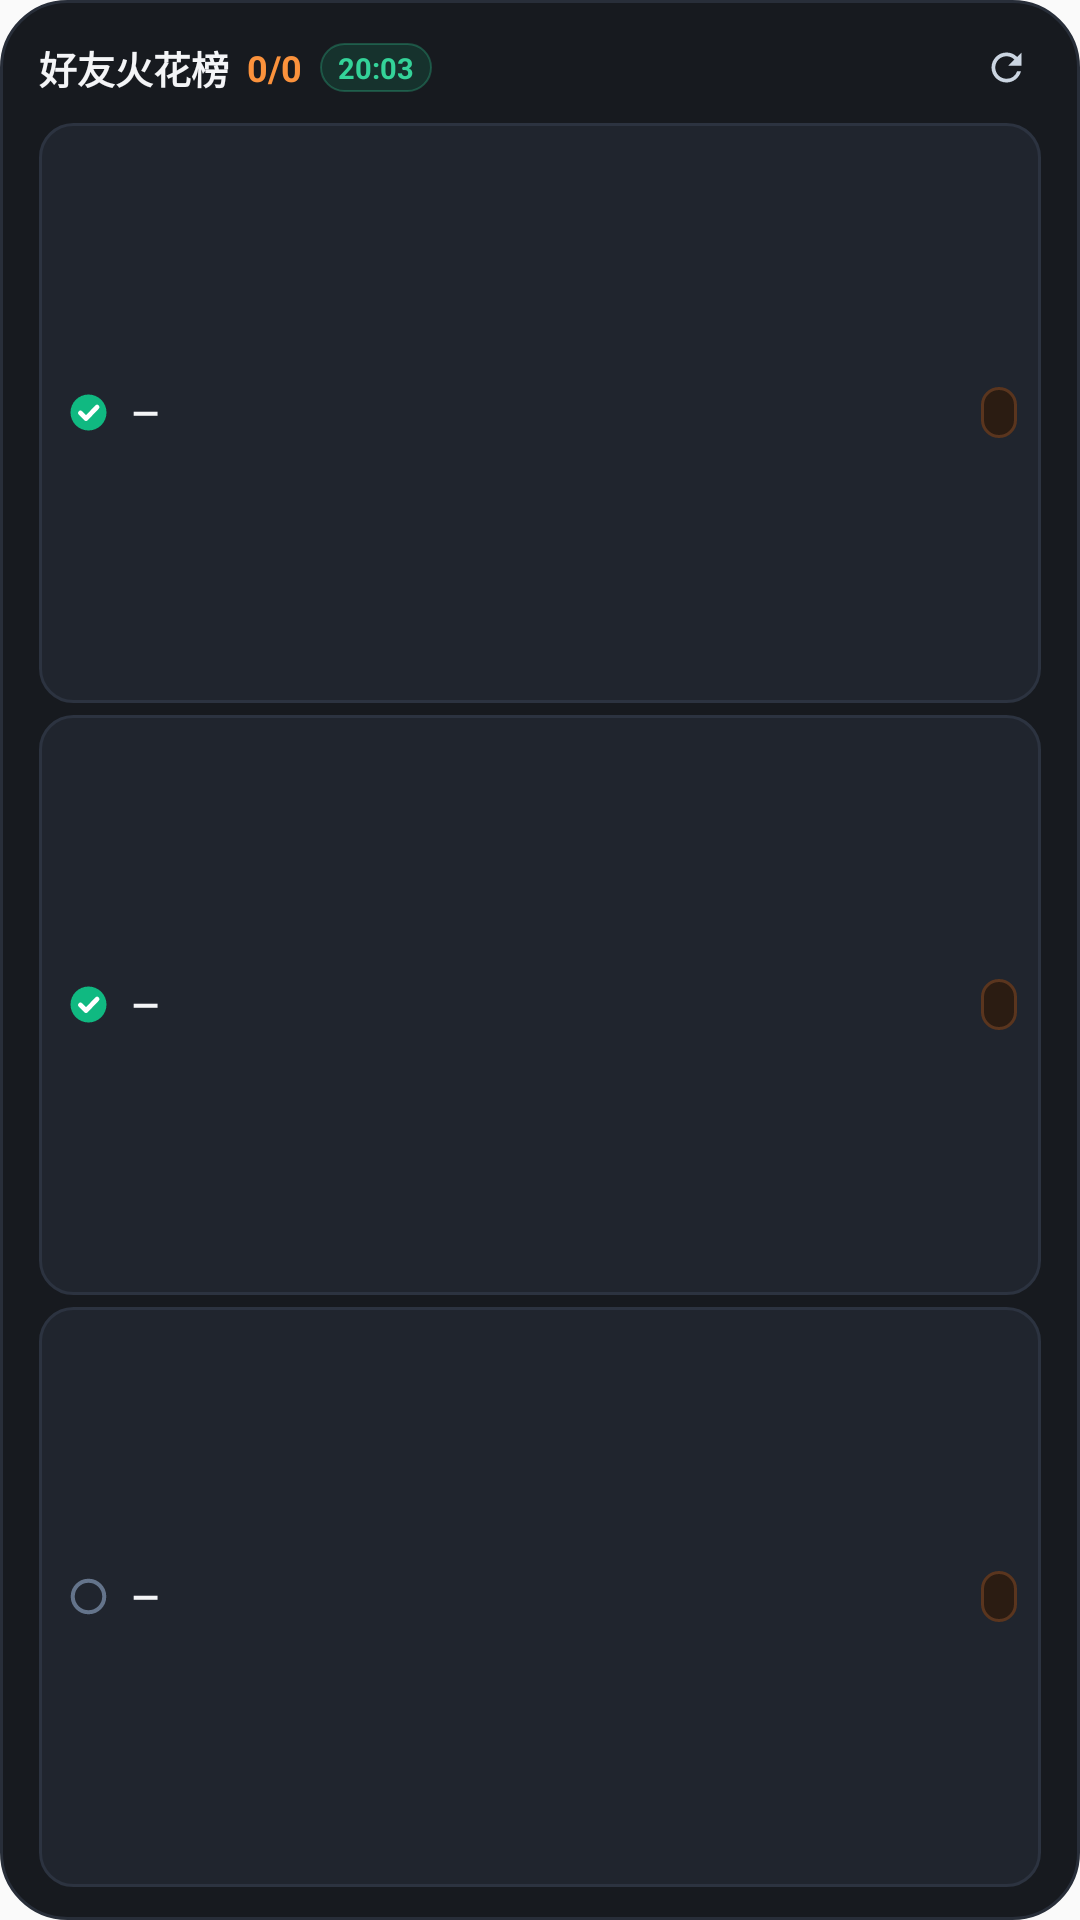

Icon click points for this 1080 x 1920 phone screenshot, format (x=x, y=y):
widget friend done: (x=88, y=412), (x=88, y=1004)
刷新今日续火状态: (x=1006, y=67)
